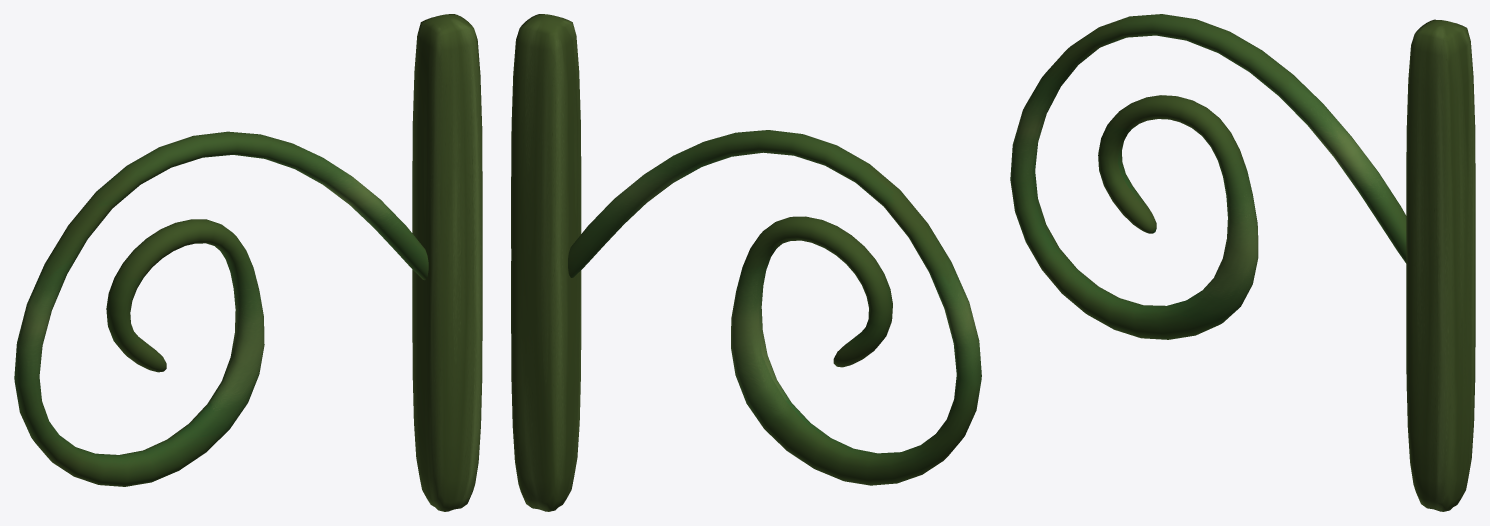
The model's file is FruitRailing1.fbx.
3 views of the same model, side by side, from view 1: azimuth 30°, elevation 25°; view 2: azimuth 150°, elevation 25°; view 3: azimuth 330°, elevation 25° (orthographic).
Parts seen in each view (by area): view 1: FruitRailing; view 2: FruitRailing; view 3: FruitRailing.
Part boxes in pixels (<box>): FruitRailing: <box>14,14,482,511</box>; FruitRailing: <box>511,14,981,511</box>; FruitRailing: <box>1010,14,1475,511</box>.
Size of the model in its own units: 151 by 155 by 17.23.
1 material, 1 textured.
